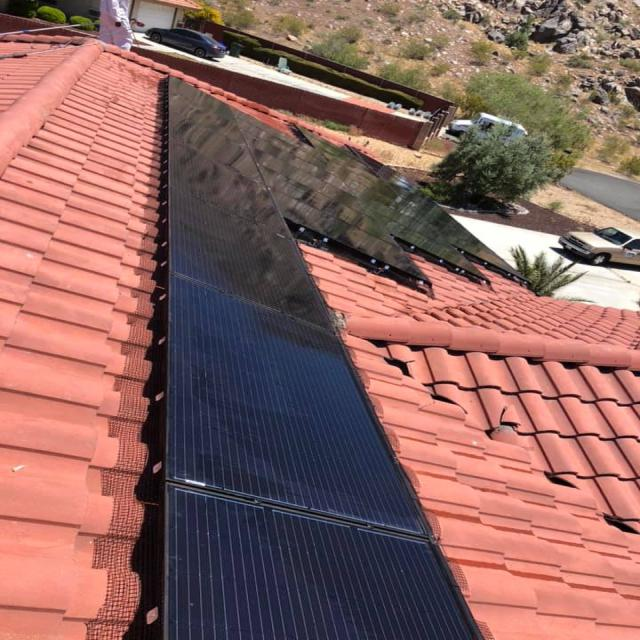clean-solar-panel: (165, 79, 479, 640), (188, 89, 529, 282)
